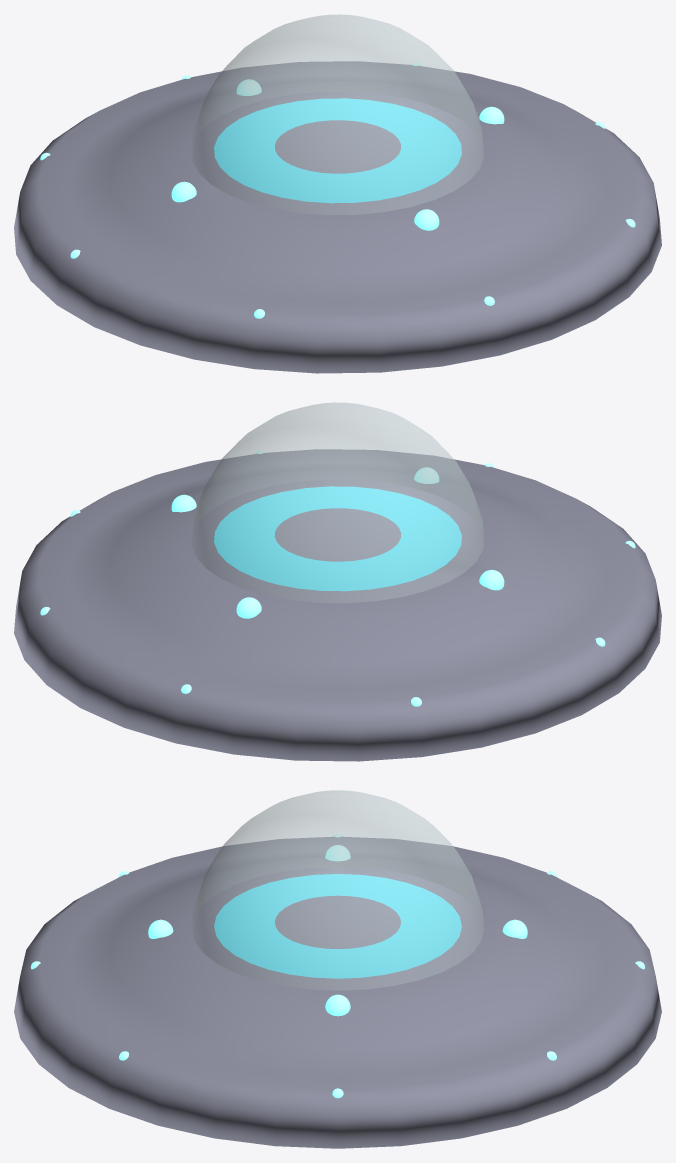
File: ufo.glb
3 views of the same model, one above another, from view 1: azimuth 30°, elevation 25°; view 2: azimuth 150°, elevation 25°; view 3: azimuth 270°, elevation 25° (orthographic).
Parts seen in each view (by area): view 1: Sphere, Sphere.001; view 2: Sphere, Sphere.001; view 3: Sphere, Sphere.001.
Boxes of the visible parts, box(x1,y1,x2,y2) form: Sphere: box(14, 61, 661, 373); Sphere.001: box(191, 14, 483, 214); Sphere: box(14, 449, 661, 761); Sphere.001: box(192, 402, 484, 602); Sphere: box(14, 837, 661, 1148); Sphere.001: box(191, 790, 484, 990).
Bounding box in the file's own units: 8.55 × 3.03 × 8.55.
